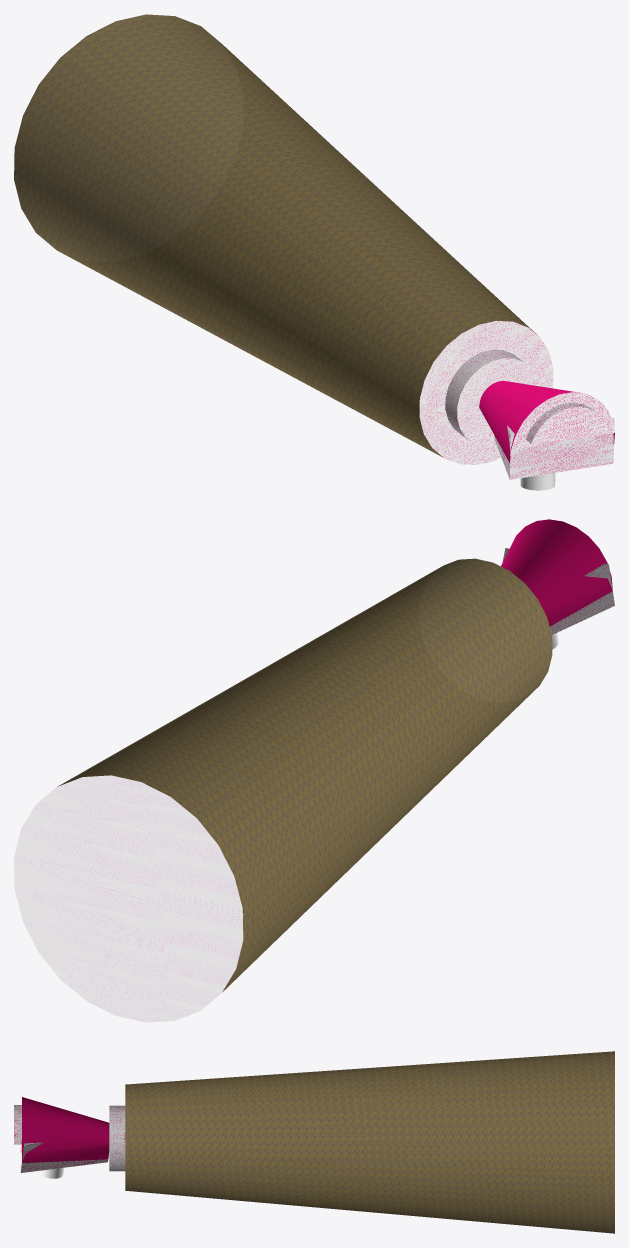
The model's file is model_align.obj.
The picture shows the model from 3 angles, top to bottom: view 1: azimuth 30°, elevation 25°; view 2: azimuth 150°, elevation 25°; view 3: azimuth 270°, elevation 25°; orthographic projection. The views are drawn at different scales.
Parts seen in each view (by area): view 1: mesh1_mesh1-geometry; view 2: mesh1_mesh1-geometry; view 3: mesh1_mesh1-geometry.
Boxes of the visible parts, x1=… form: mesh1_mesh1-geometry: x1=14, y1=14, x2=614, y2=490; mesh1_mesh1-geometry: x1=14, y1=519, x2=614, y2=1022; mesh1_mesh1-geometry: x1=14, y1=1051, x2=614, y2=1233.
Bounding box in the file's own units: 0.0459 × 0.0459 × 0.1518.
